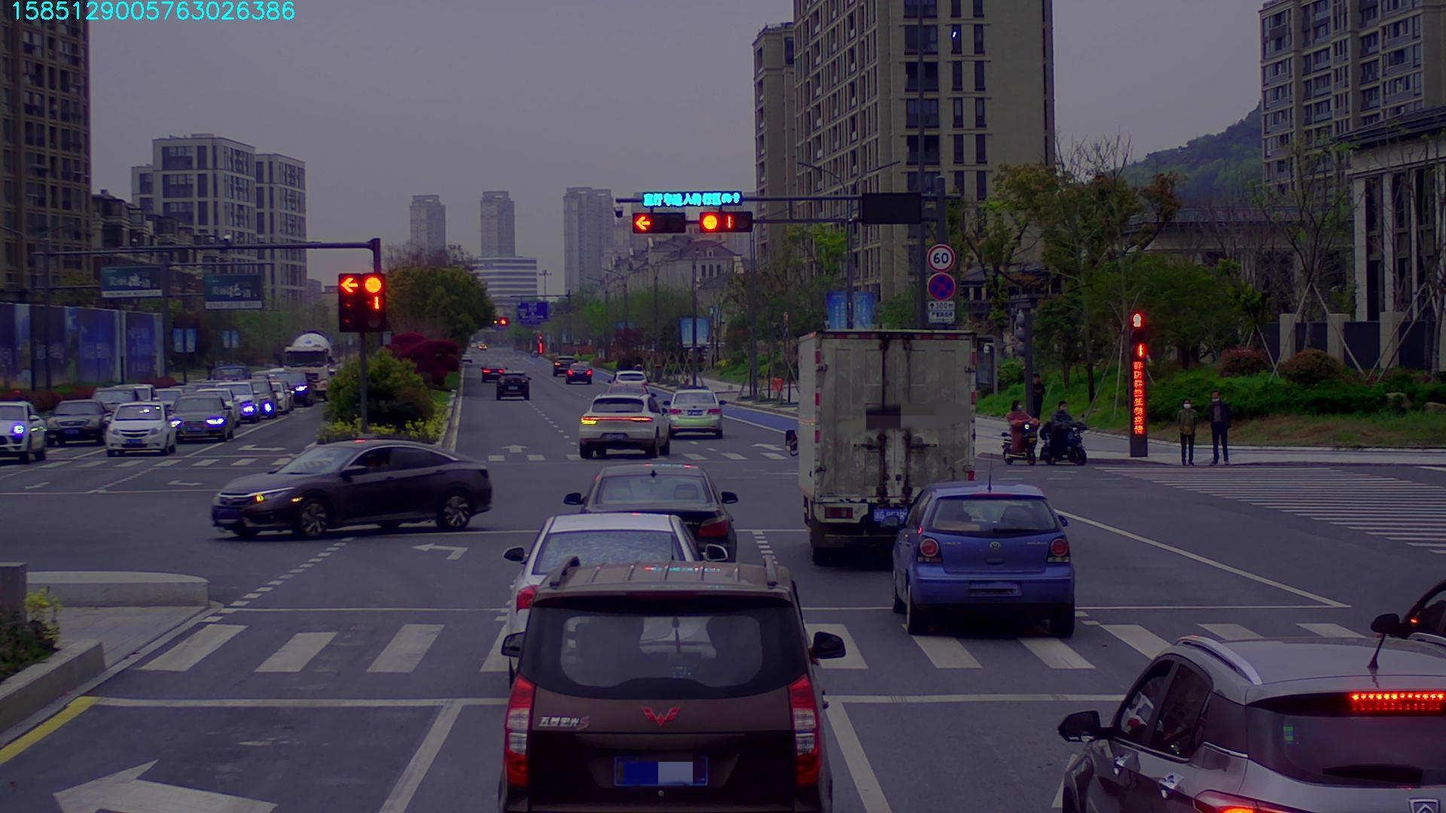red: (633, 211, 682, 233), (698, 212, 746, 230)
wait_on: (639, 191, 749, 207)
